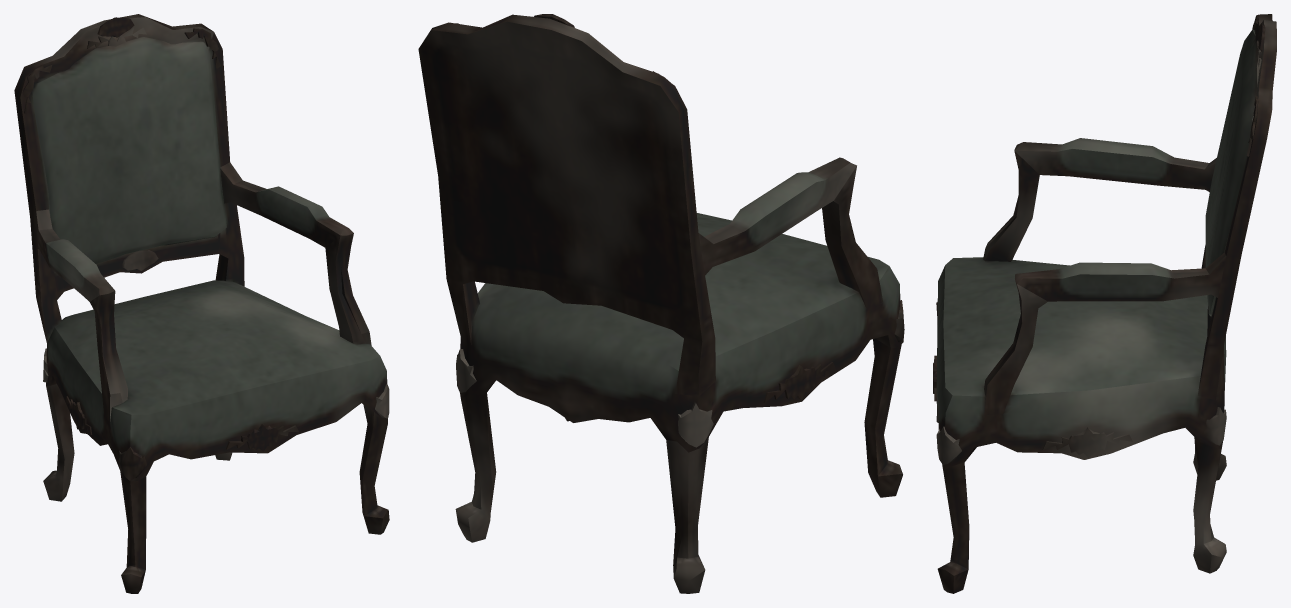
The model's file is GreenChair_01.fbx.
3 renders of one model, left to right at view 1: azimuth 30°, elevation 25°; view 2: azimuth 150°, elevation 25°; view 3: azimuth 270°, elevation 25°, orthographic. The views are drawn at different scales.
Visible parts, largest first — view 1: GreenChair_01; view 2: GreenChair_01; view 3: GreenChair_01.
Part boxes in pixels (x1=…): GreenChair_01: x1=14, y1=14, x2=389, y2=593; GreenChair_01: x1=418, y1=14, x2=904, y2=593; GreenChair_01: x1=933, y1=14, x2=1276, y2=593.
Bounding box in the file's own units: 0.6714 × 1.06 × 0.6642.
